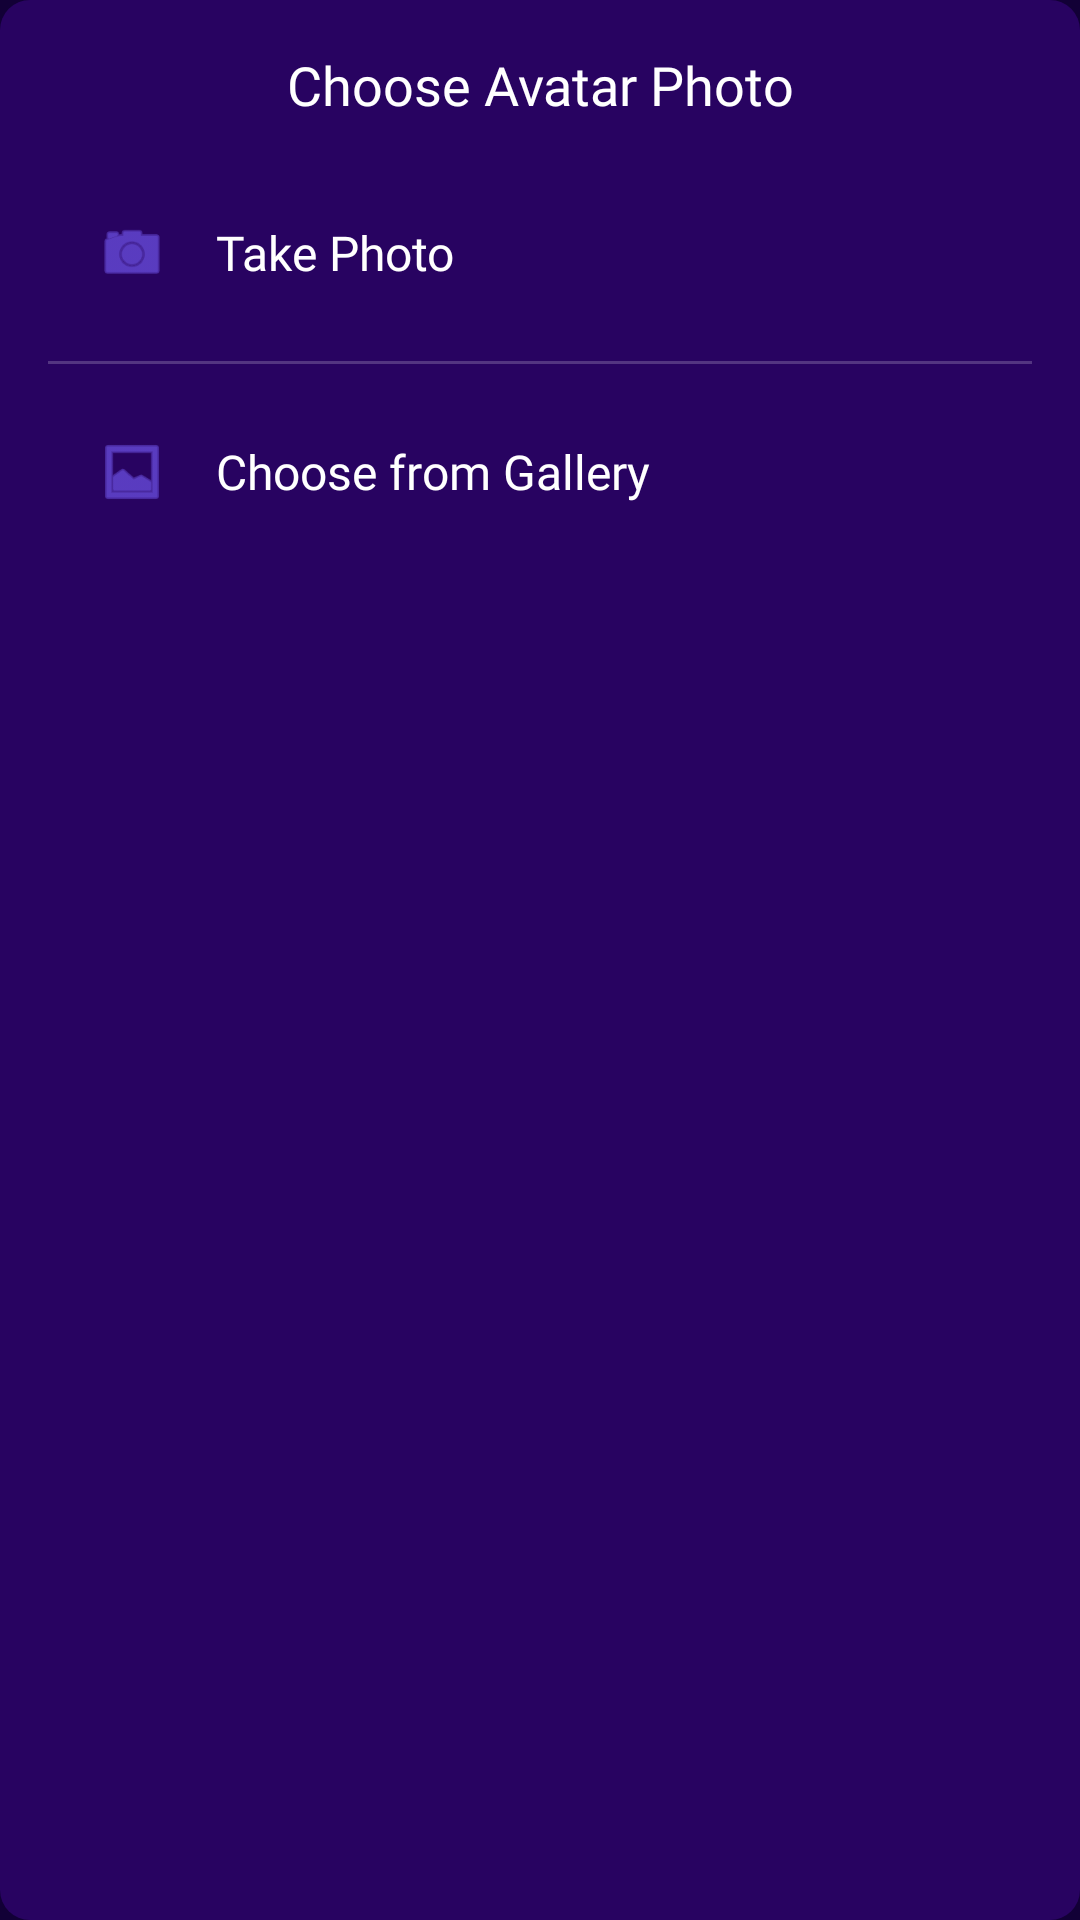

Icons on this 1080 × 1920 Android screen, each with its box as (x1, y1, x2, y2):
camera: (104, 230, 160, 274)
